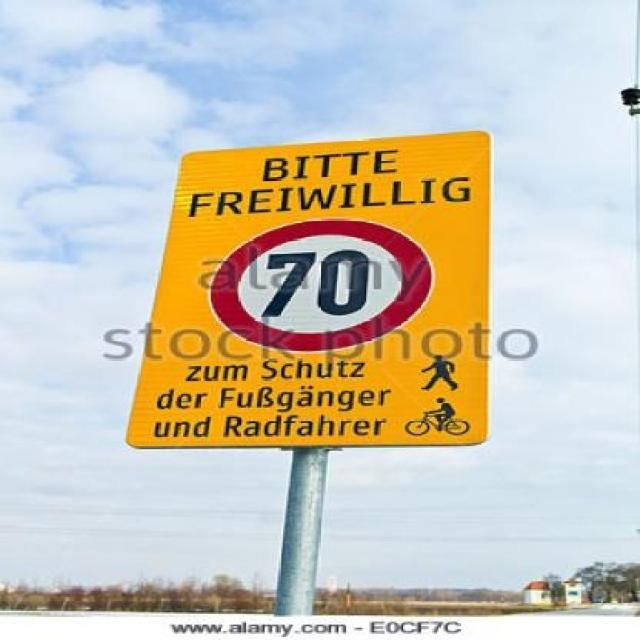forb_speed_over_70: (211, 218, 418, 358)
